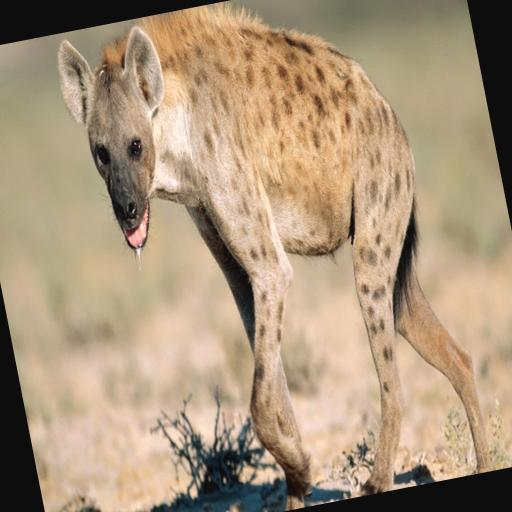hyenas: (6, 0, 507, 512)
